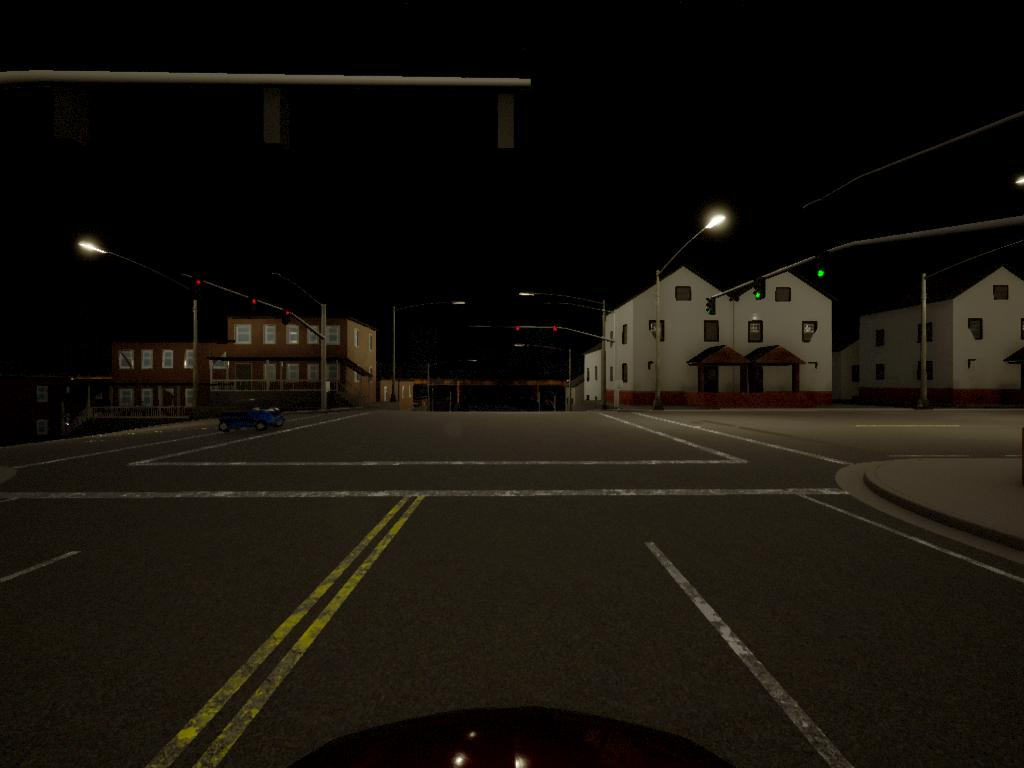traffic_light: (818, 253, 827, 283), (754, 281, 767, 301), (193, 277, 203, 301), (707, 299, 717, 317), (250, 299, 259, 315), (284, 309, 292, 326), (553, 327, 559, 334), (516, 327, 521, 334)
